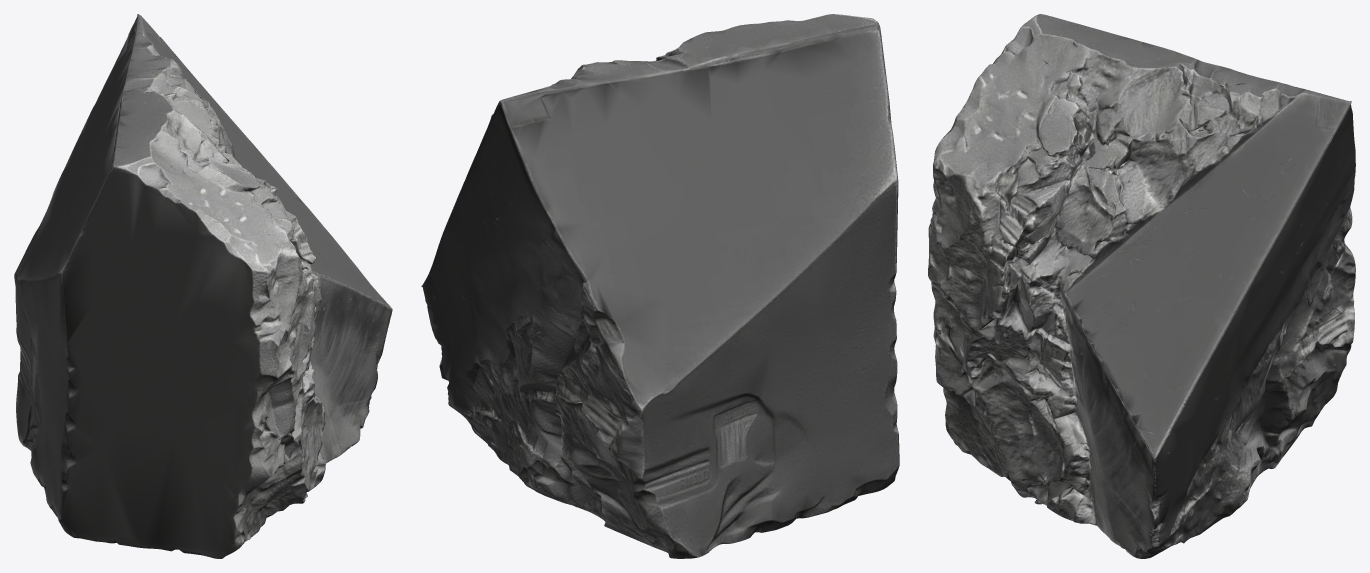
File: bloco-3d-web.glb
3 renders of one model, left to right at view 1: azimuth 30°, elevation 25°; view 2: azimuth 150°, elevation 25°; view 3: azimuth 270°, elevation 25°, orthographic. The views are drawn at different scales.
Parts seen in each view (by area): view 1: Mesh1.0; view 2: Mesh1.0; view 3: Mesh1.0.
Boxes of the visible parts, bbox=[...] form: Mesh1.0: bbox=[14, 14, 392, 558]; Mesh1.0: bbox=[421, 14, 899, 558]; Mesh1.0: bbox=[928, 14, 1355, 558].
Bounding box in the file's own units: 2 × 2 × 1.92.
Materials: 1 (1 with a texture image).
